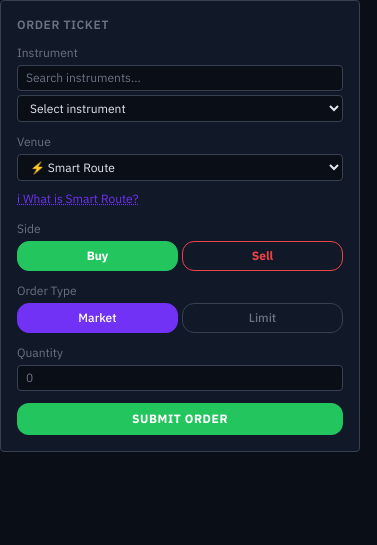
Test: OrderTicket › prevents selling more than held position
Select "BTC/USD - Bitcoin" in the dropdown labelled "Instrument" at (180, 108), box [17,95,343,122]
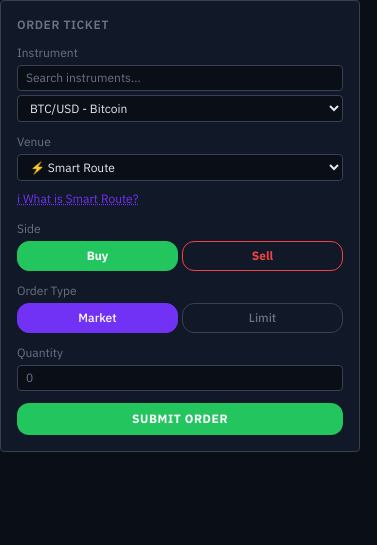
Type "999" into the number field labelled "Quantity" at (180, 378), box [17,365,343,391]
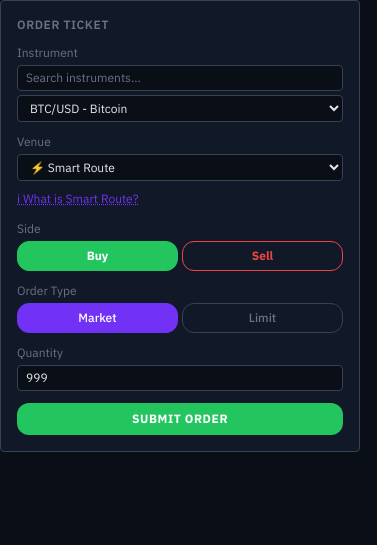
Click the button "Sell" at (262, 256), box [182,241,343,271]
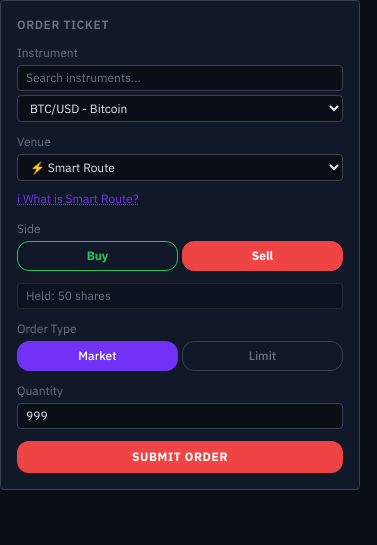
Click the button "Submit Order" at (180, 457), box [17,441,343,473]
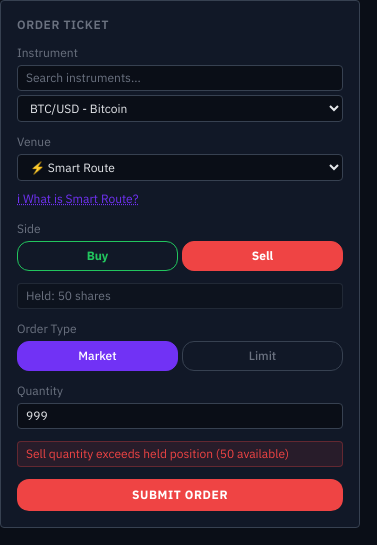
Expected: the text "Sell quantity exceeds held position (50 available)" is shown, [17,441,343,467]
